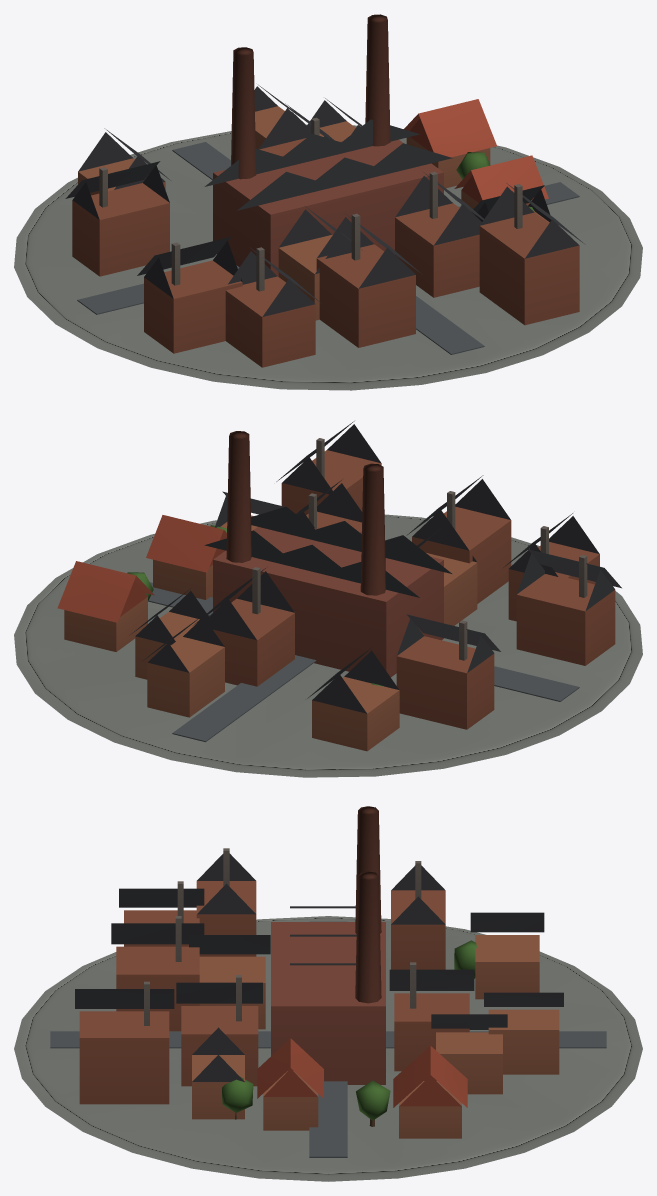
File: settlement_1_5.glb
The picture shows the model from 3 angles, top to bottom: view 1: azimuth 30°, elevation 25°; view 2: azimuth 150°, elevation 25°; view 3: azimuth 270°, elevation 25°; orthographic projection.
Parts seen in each view (by area): view 1: part_0; view 2: part_0; view 3: part_0.
Part boxes in pixels (x1,y1,x2,y2): part_0: (14, 14, 642, 390); part_0: (14, 421, 642, 777); part_0: (14, 806, 642, 1181).
Bounding box in the file's own units: 32.8 × 11.89 × 32.8.
